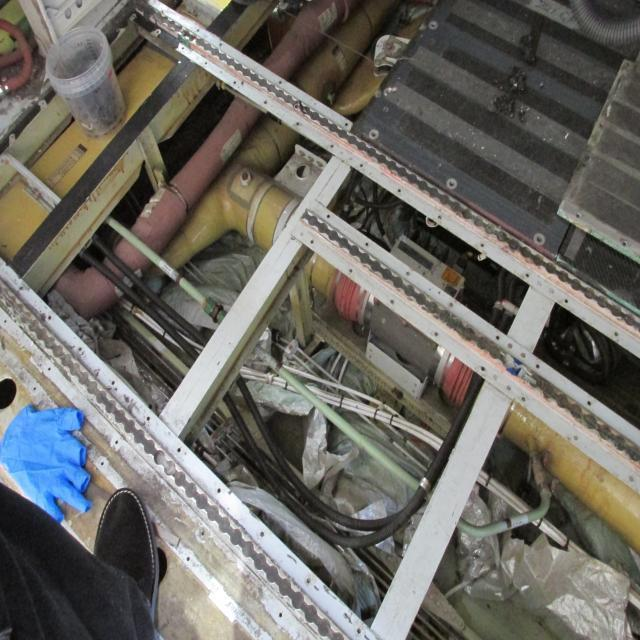Missing Fastener: (348, 614, 372, 638), (515, 386, 535, 410), (440, 291, 460, 311), (475, 230, 491, 254), (322, 132, 338, 156), (341, 261, 359, 281), (532, 353, 550, 373), (566, 427, 586, 445), (302, 570, 318, 592), (273, 603, 289, 625), (195, 524, 212, 544), (106, 371, 120, 394), (41, 358, 57, 378), (428, 326, 444, 346), (475, 356, 491, 376), (610, 326, 626, 346), (391, 180, 407, 200), (148, 20, 164, 40), (431, 205, 445, 227), (357, 153, 371, 175), (130, 9, 146, 27), (95, 452, 109, 472), (180, 548, 194, 568), (212, 478, 226, 498), (172, 444, 188, 461), (624, 466, 636, 488), (270, 70, 286, 86), (16, 276, 28, 296), (74, 340, 86, 360), (520, 262, 532, 282), (290, 110, 302, 130), (256, 524, 270, 540), (386, 294, 400, 310), (201, 54, 215, 70), (402, 265, 416, 279), (581, 391, 595, 405), (362, 235, 374, 251), (180, 40, 192, 56), (322, 208, 333, 225), (341, 112, 352, 128), (491, 326, 502, 342), (28, 380, 40, 394), (0, 310, 10, 326), (263, 92, 273, 108), (142, 413, 154, 425), (112, 434, 124, 446), (228, 77, 240, 89), (560, 294, 570, 308), (308, 234, 316, 250), (46, 313, 54, 325), (194, 22, 202, 34), (218, 40, 226, 48)
